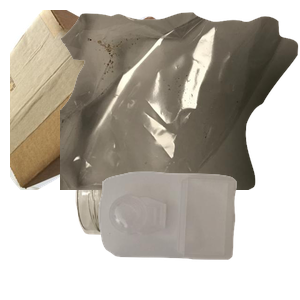cardboard: (10, 10, 206, 190)
glass: (73, 153, 284, 300)
plastic: (96, 169, 300, 300)
trash: (60, 10, 300, 190)
